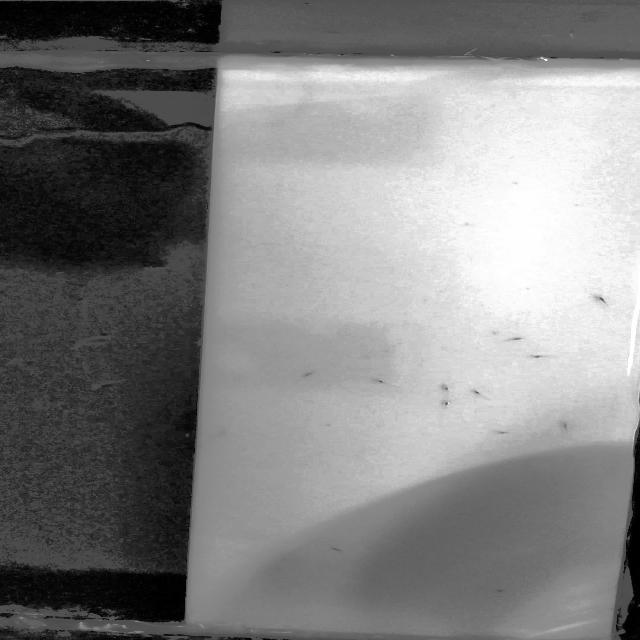shrimp: (317, 538, 355, 556), (580, 291, 616, 310), (292, 366, 322, 382), (364, 377, 398, 389), (552, 419, 579, 434), (522, 350, 553, 362), (486, 428, 519, 439), (500, 335, 535, 344), (485, 586, 511, 598), (431, 398, 461, 407), (464, 388, 490, 398), (430, 384, 459, 392)
